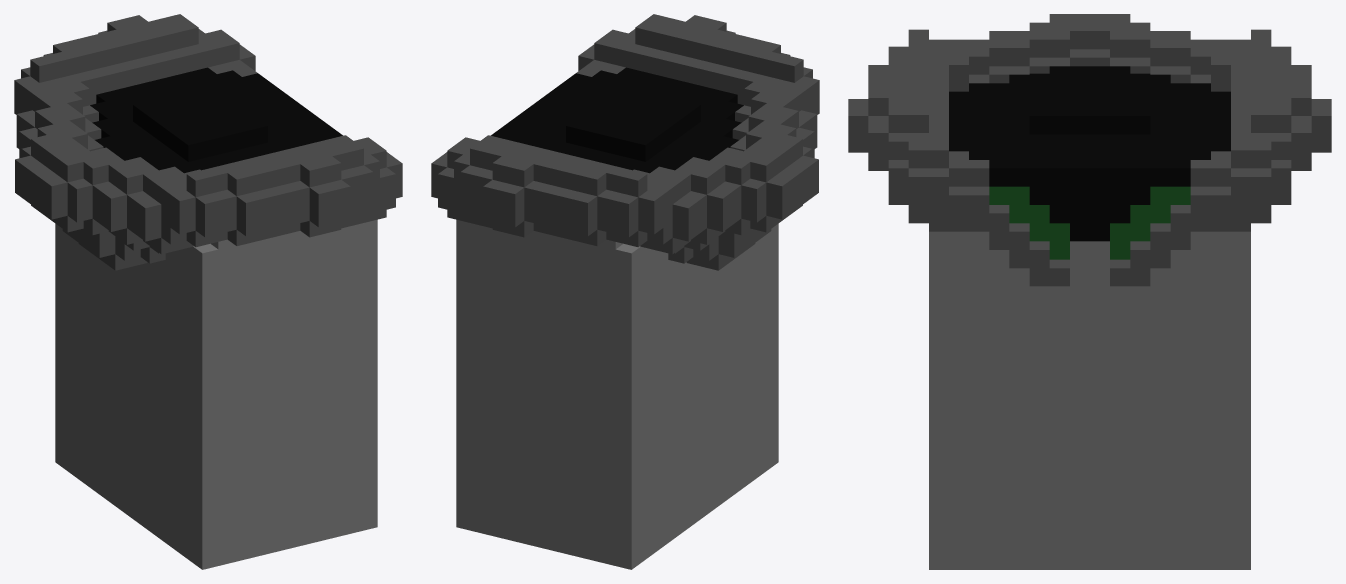
Rendered from burov-3.obj.
3 renders of one model, left to right at view 1: azimuth 30°, elevation 25°; view 2: azimuth 150°, elevation 25°; view 3: azimuth 270°, elevation 25°, orthographic. The views are drawn at different scales.
Bounding box in the file's own units: 1.8 × 2.4 × 2.4.
Materials: 1 (1 with a texture image).
